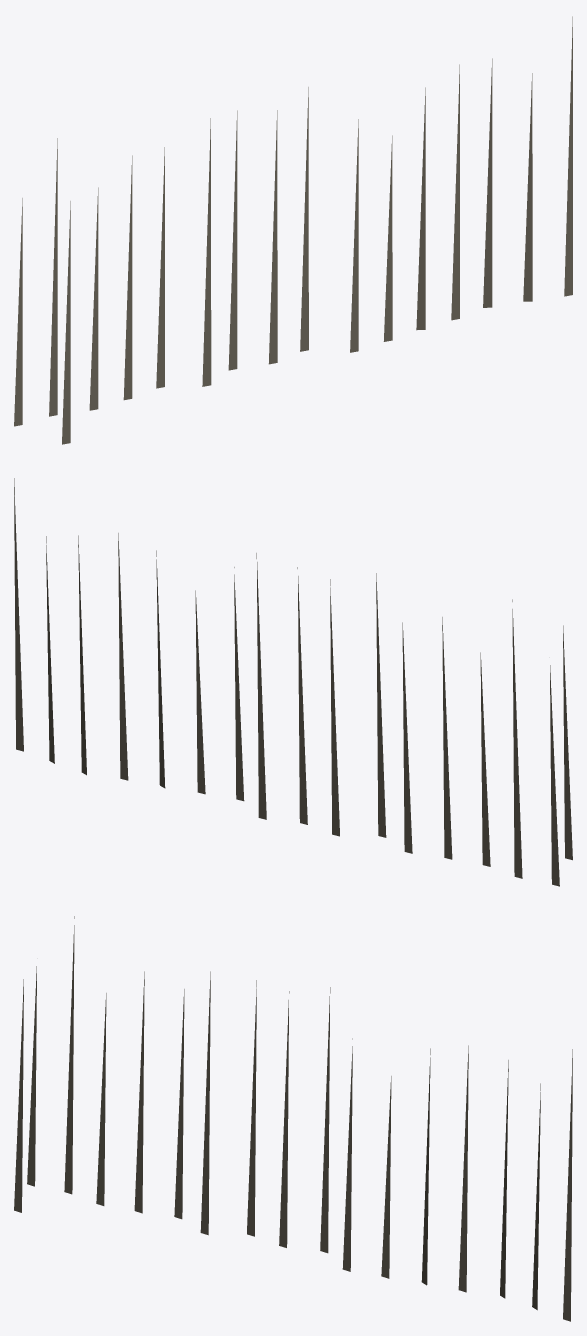
The model's file is xiyuan-vegetation-23-far.glb.
3 renders of one model, top to bottom at view 1: azimuth 30°, elevation 25°; view 2: azimuth 150°, elevation 25°; view 3: azimuth 330°, elevation 25°, orthographic.
Visible parts, largest first — view 1: vegetation cedar trunk; view 2: vegetation cedar trunk; view 3: vegetation cedar trunk.
Boxes of the visible parts, x1,y1,x2,y2 form: vegetation cedar trunk: (14, 16, 572, 444); vegetation cedar trunk: (14, 478, 572, 886); vegetation cedar trunk: (14, 916, 572, 1321).
Bounding box in the file's own units: 28.84 × 13.98 × 3.3.
